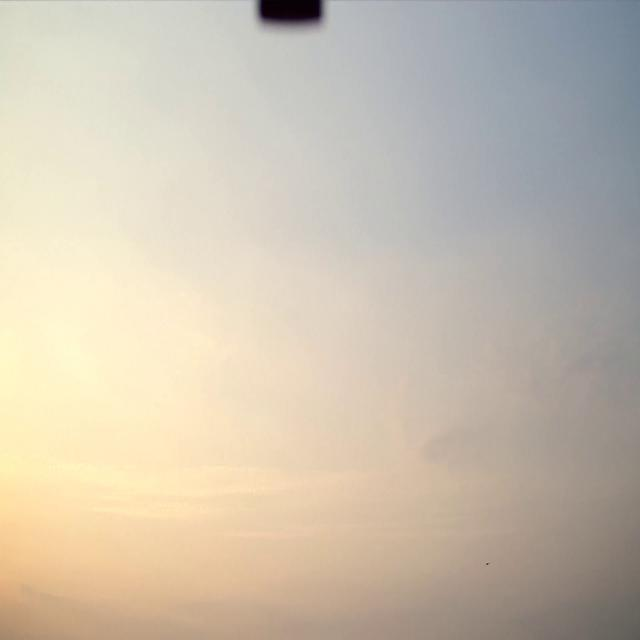drone: (486, 562, 490, 565)
